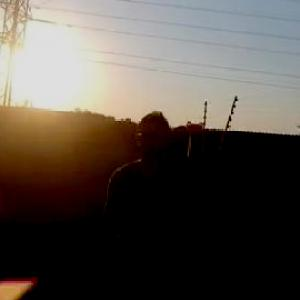follow: (94, 105, 193, 299)
